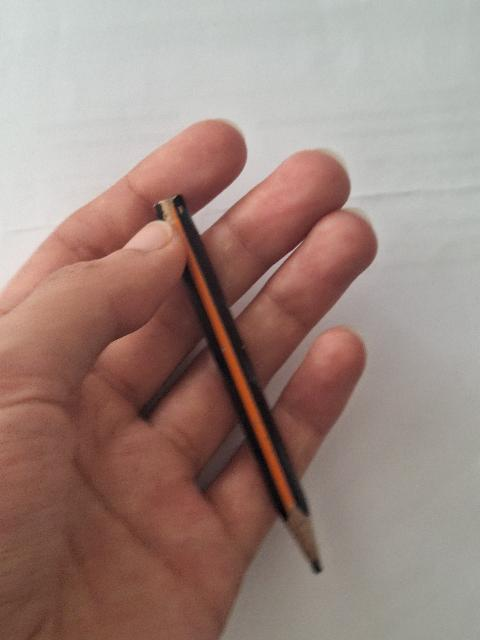writing_tool: (155, 193, 328, 579)
